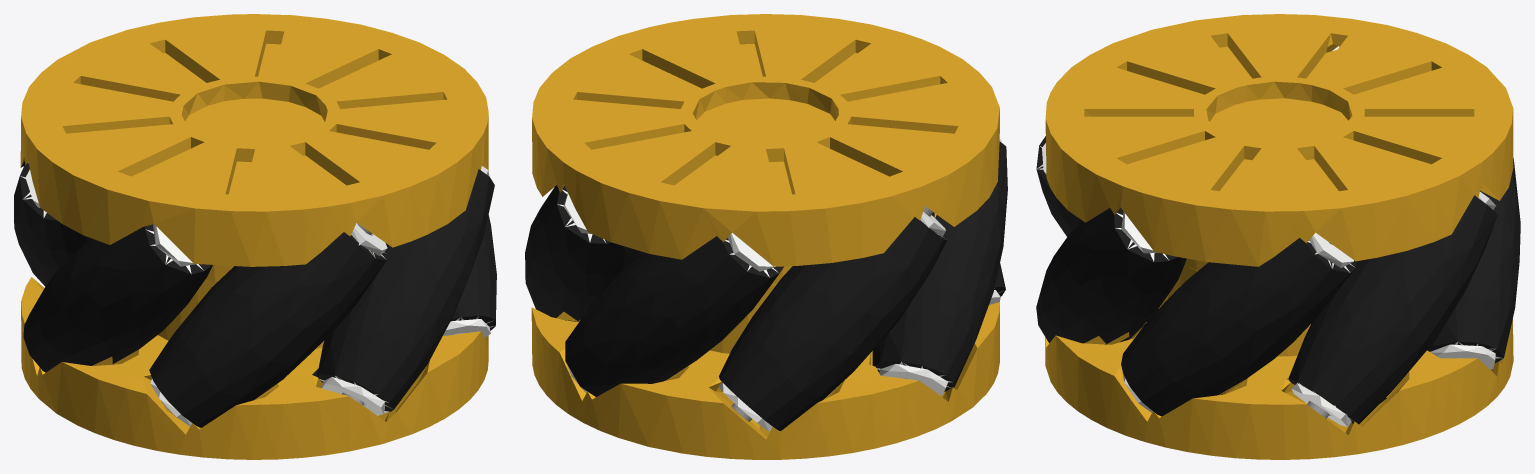
The model's file is rear_left_wheel.obj.
The picture shows the model from 3 angles, left to right: view 1: azimuth 30°, elevation 25°; view 2: azimuth 150°, elevation 25°; view 3: azimuth 270°, elevation 25°; orthographic projection.
Bounding box in the file's own units: 0.0397 × 0.0225 × 0.0398.
